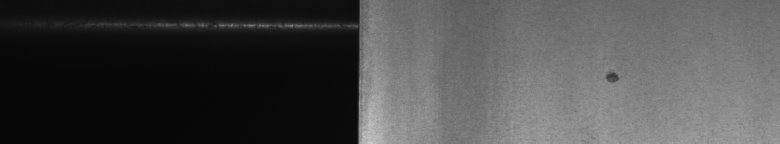fi: (597, 64, 624, 88)
